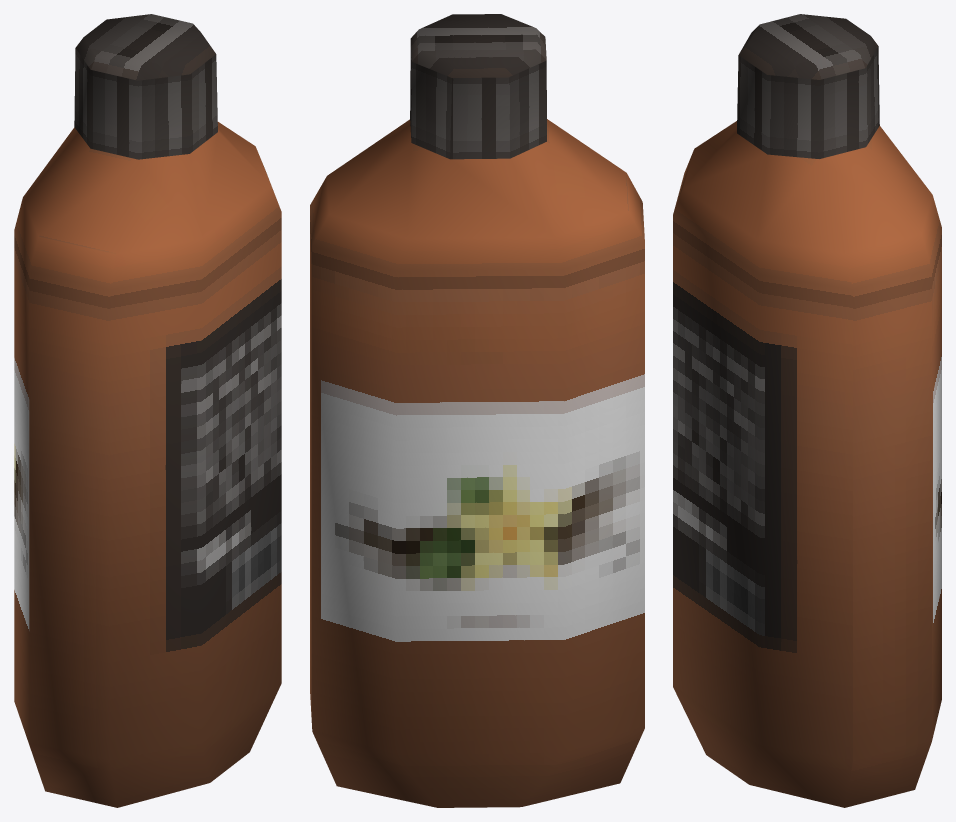
Rendered from AL_VanillaExtract_Static.fbx.
The picture shows the model from 3 angles, left to right: view 1: azimuth 30°, elevation 25°; view 2: azimuth 150°, elevation 25°; view 3: azimuth 270°, elevation 25°; orthographic projection. The views are drawn at different scales.
Visible parts, largest first — view 1: BBQStarterFluid; view 2: BBQStarterFluid; view 3: BBQStarterFluid.
Part boxes in pixels (x1,y1,x2,y2): BBQStarterFluid: (14,14,281,807); BBQStarterFluid: (310,14,644,807); BBQStarterFluid: (673,14,941,807).
Size of the model in its own units: 0.092 by 0.2676 by 0.111.
